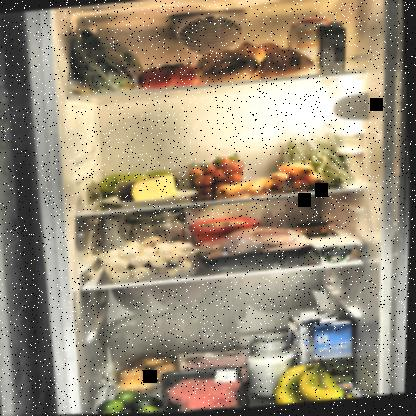apple: (101, 167, 182, 201)
banana: (276, 356, 370, 406)
butter: (189, 217, 263, 252)
carrot: (270, 161, 330, 196), (214, 178, 274, 200)
cheese: (115, 172, 181, 206)
chicken: (199, 223, 317, 275)
corn: (295, 223, 332, 243)
green_beans: (280, 119, 359, 193)
ground_beef: (165, 366, 248, 412)
heavy_cream: (314, 22, 350, 76)
lime: (94, 387, 168, 413)
milk: (307, 315, 363, 398), (286, 311, 337, 383)
mushrooms: (97, 233, 206, 285)
onion: (231, 39, 284, 65)
potato: (115, 349, 181, 394)
spinach: (61, 10, 150, 100)
strawberries: (185, 155, 250, 194)
sweet_potato: (193, 43, 316, 86)
tomato: (137, 62, 207, 93)
